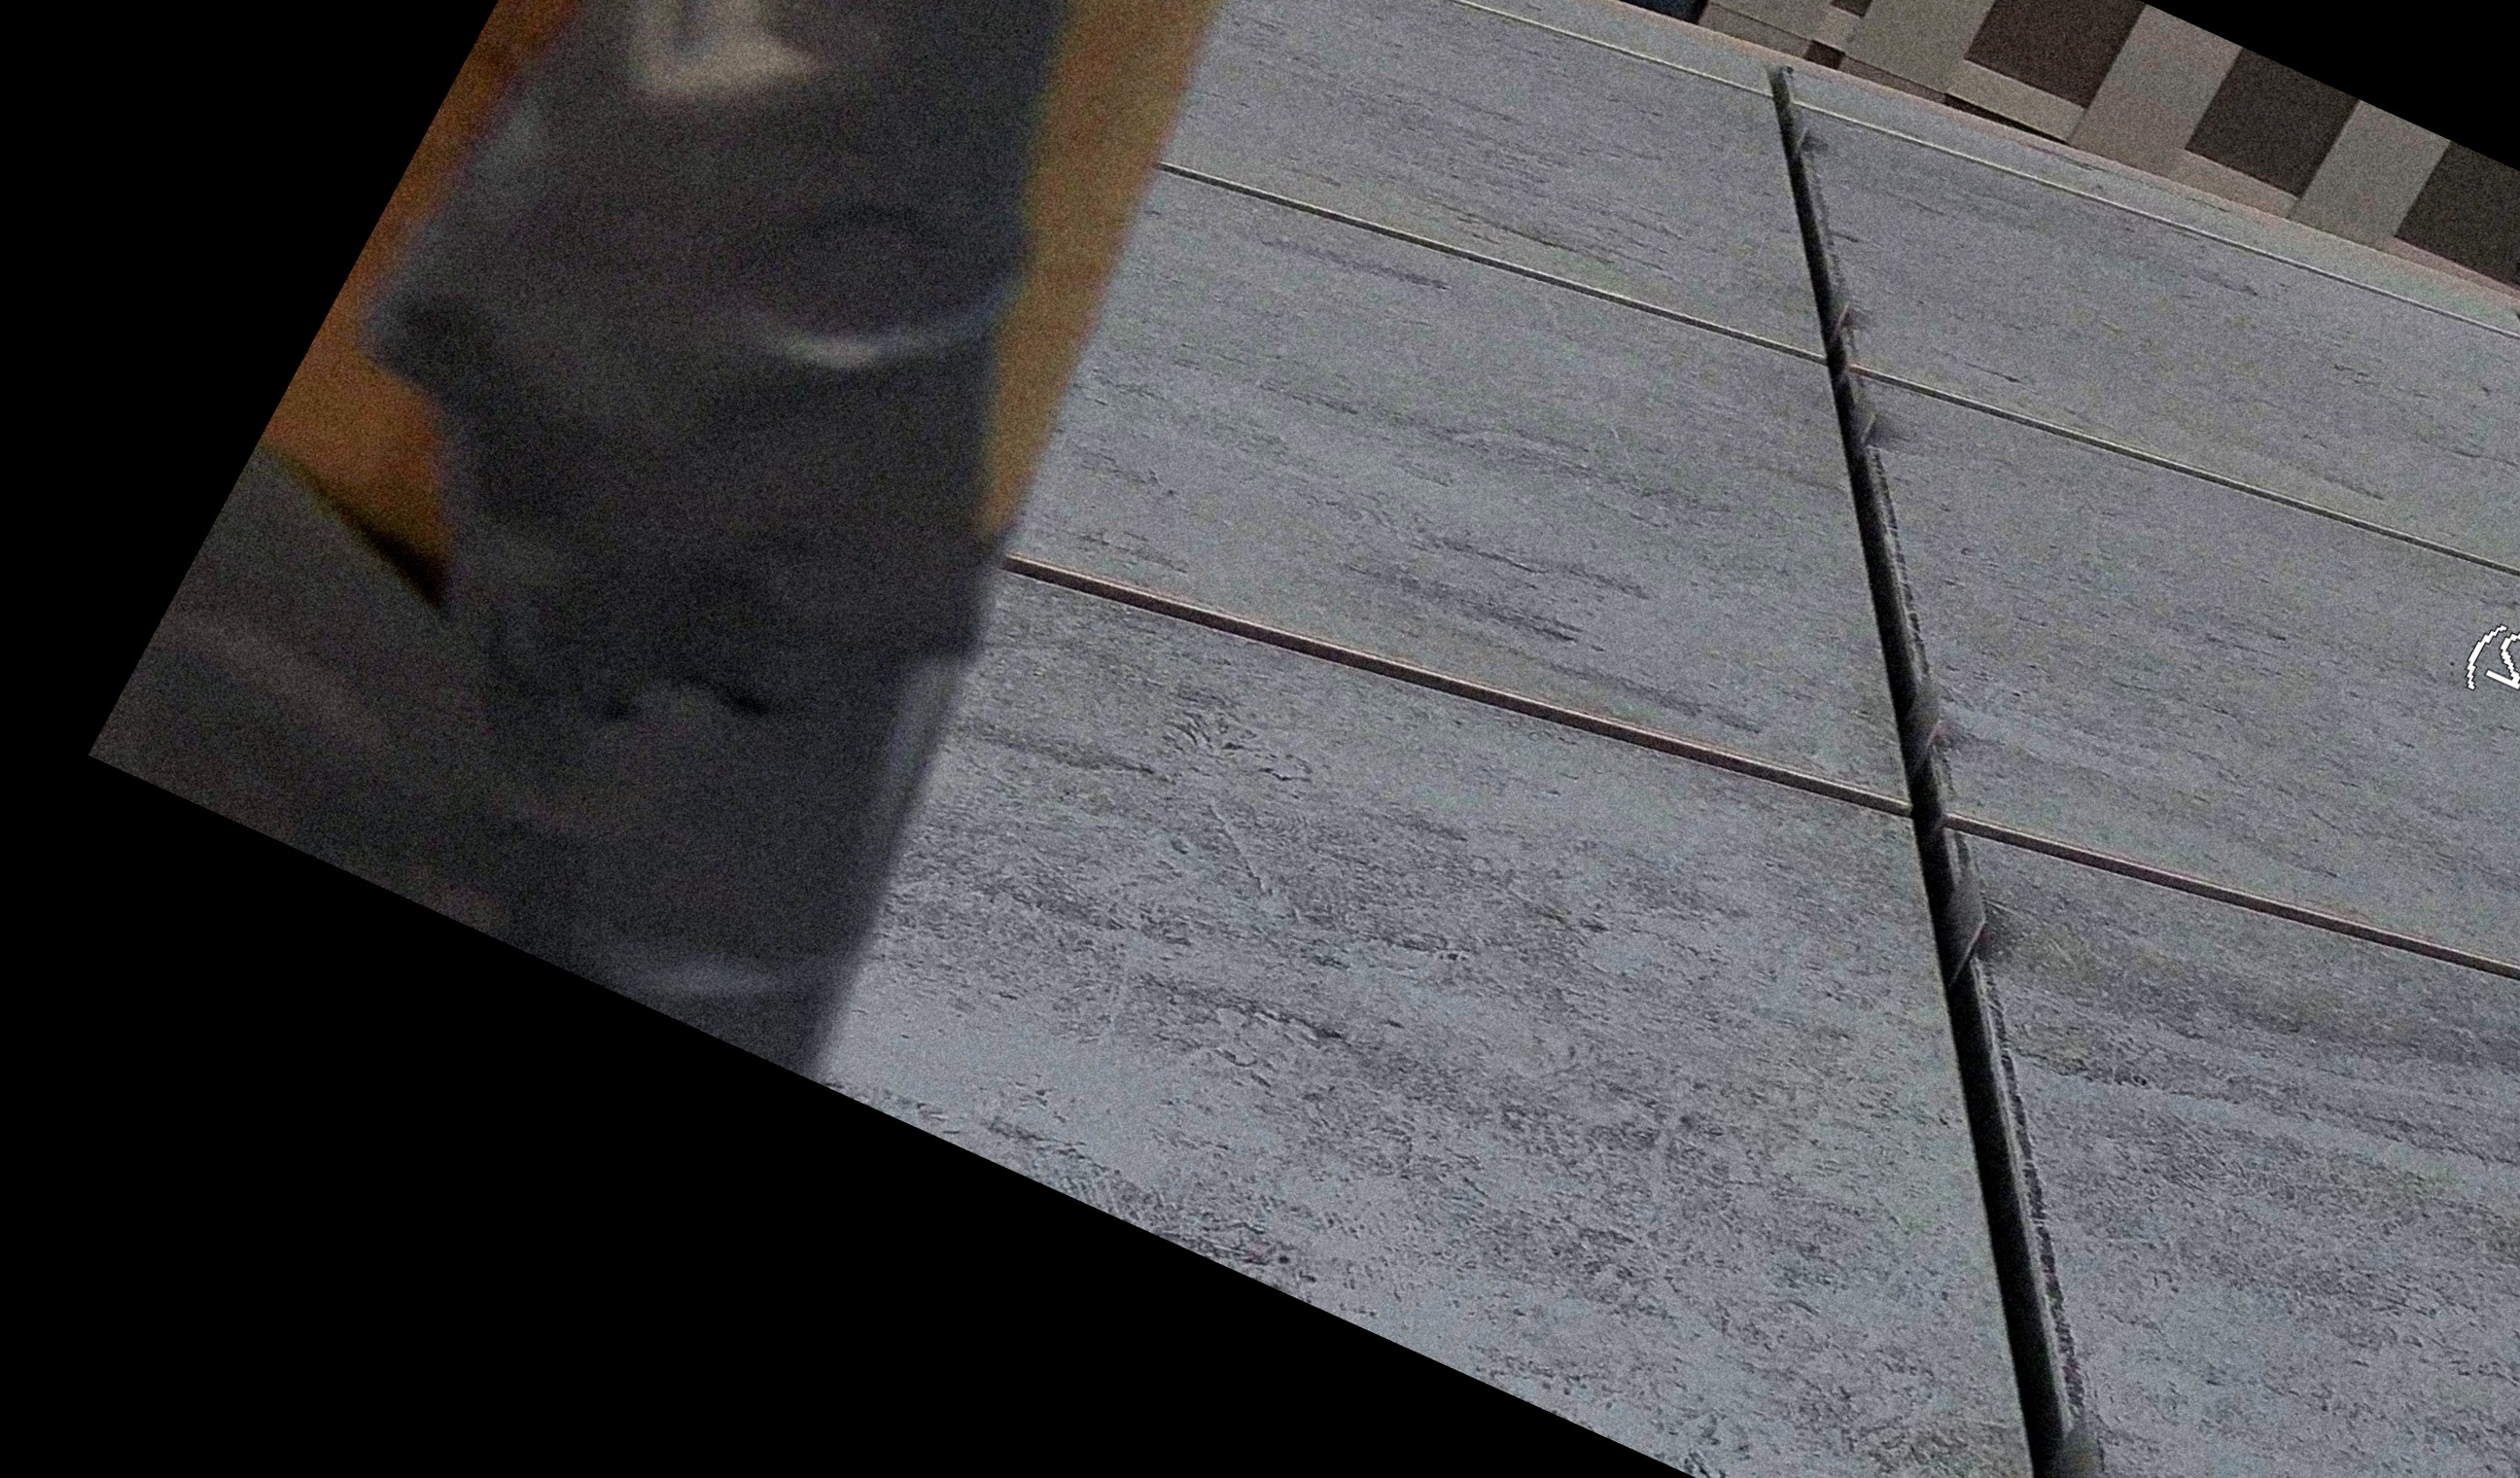Other: (0, 0, 1560, 1165)
